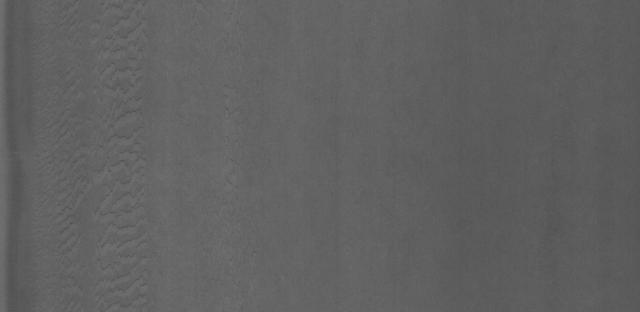silk_spot: (74, 13, 158, 286)
